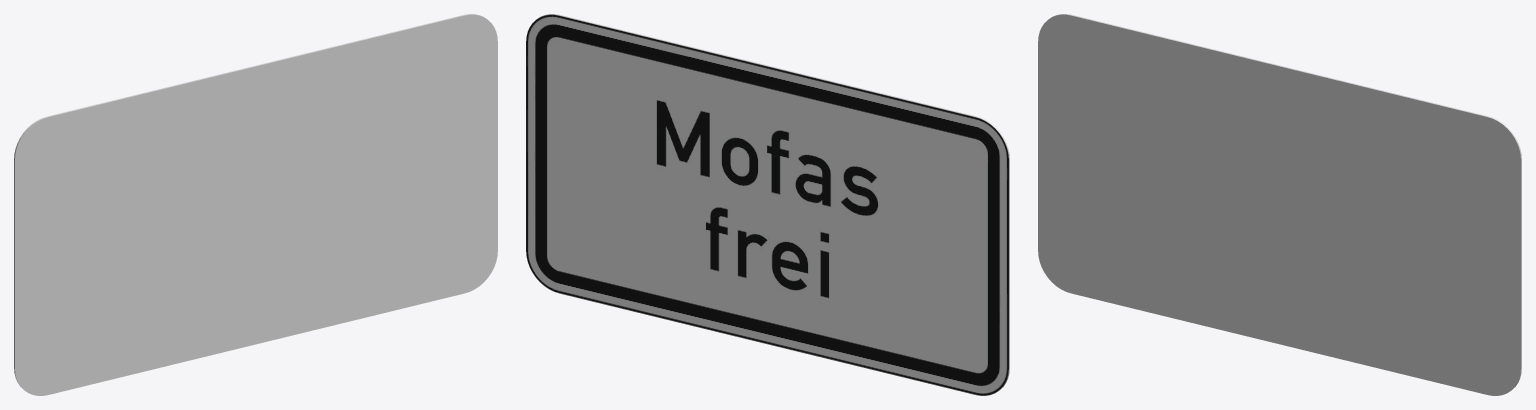
The picture shows the model from 3 angles, left to right: view 1: azimuth 30°, elevation 25°; view 2: azimuth 150°, elevation 25°; view 3: azimuth 330°, elevation 25°; orthographic projection.
Parts seen in each view (by area): view 1: Plane; view 2: Plane; view 3: Plane.
Boxes of the visible parts, x1,y1,x2,y2 form: Plane: (14,14,497,395); Plane: (526,14,1009,395); Plane: (1038,14,1521,395).
Bounding box in the file's own units: 0.6 × 0.33 × 0.002.
2 materials, 1 textured.
